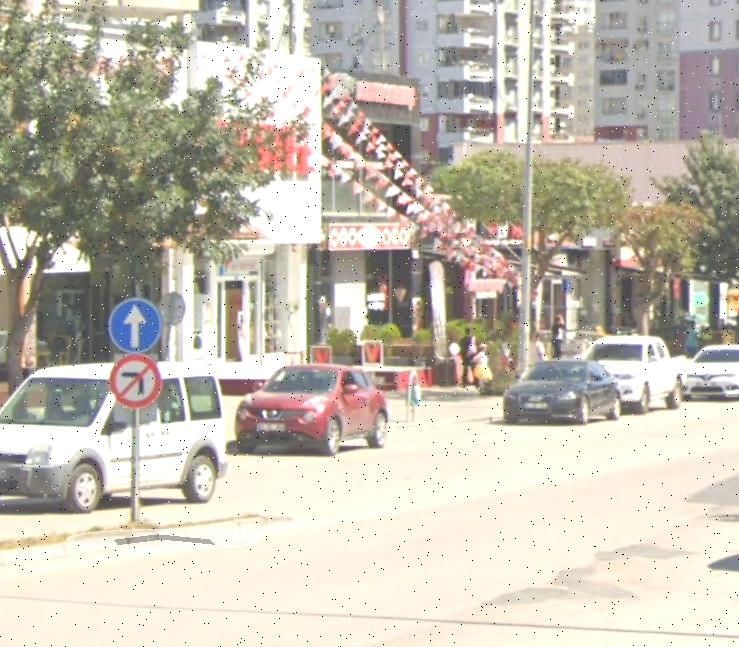forward: (113, 301, 158, 351)
leftturnsareforbidden: (112, 353, 161, 408)
